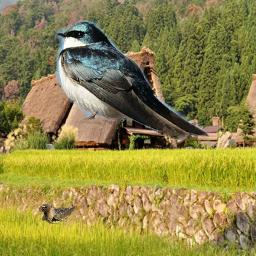Swallow: (55, 20, 210, 141), (39, 204, 77, 224)
